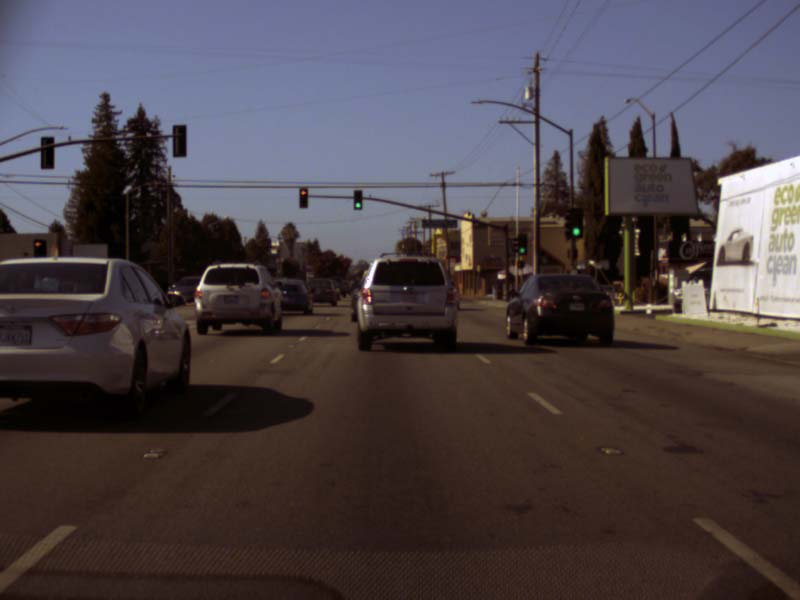Green: (569, 208, 583, 238), (352, 189, 363, 210), (517, 234, 527, 256)
Red: (34, 239, 45, 256), (299, 188, 308, 207)
